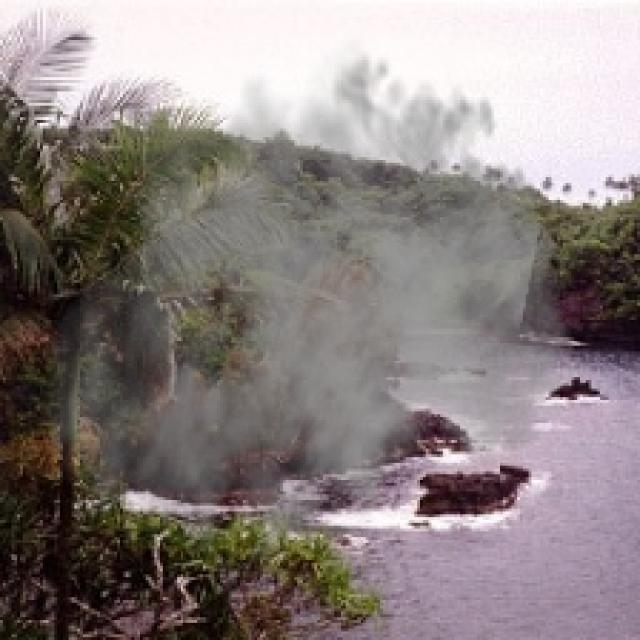Smoke: (40, 31, 580, 600)
